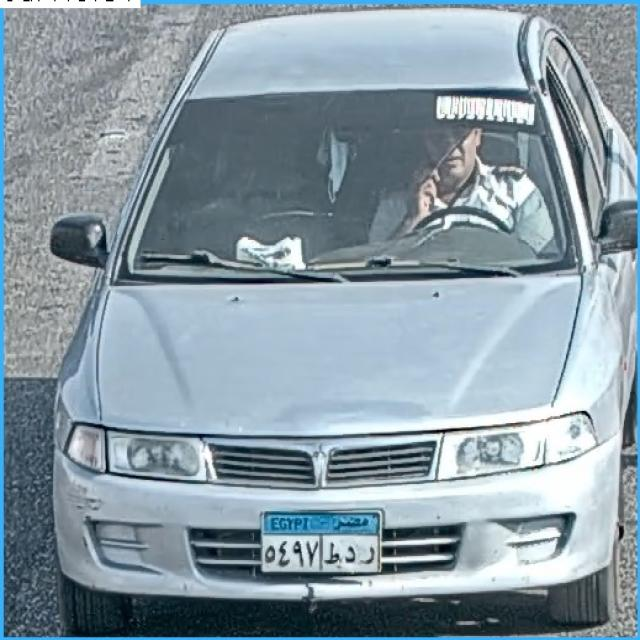windshield: (135, 92, 562, 273)
